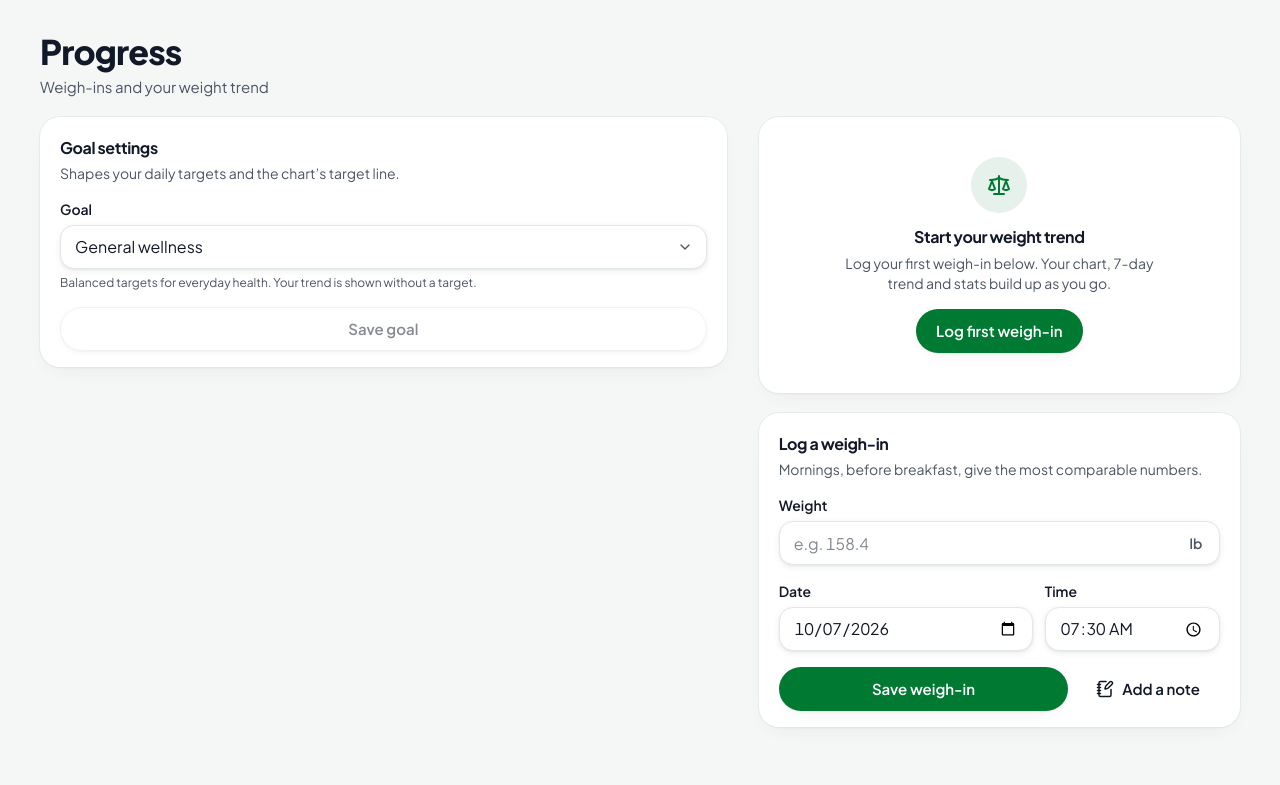
Scenario: Progress: imperial units › accepts pounds and stores kilograms
The width and height of the screenshot is (1280, 785).
Expected: the heading "Log a weigh-in" is shown, [779,433,888,454]
Expected: the text "lb" is shown, [1190,533,1202,553]
Type "30" into the field labelled "Weight".
click(999, 543); type("30")  # box [779,521,1220,565]
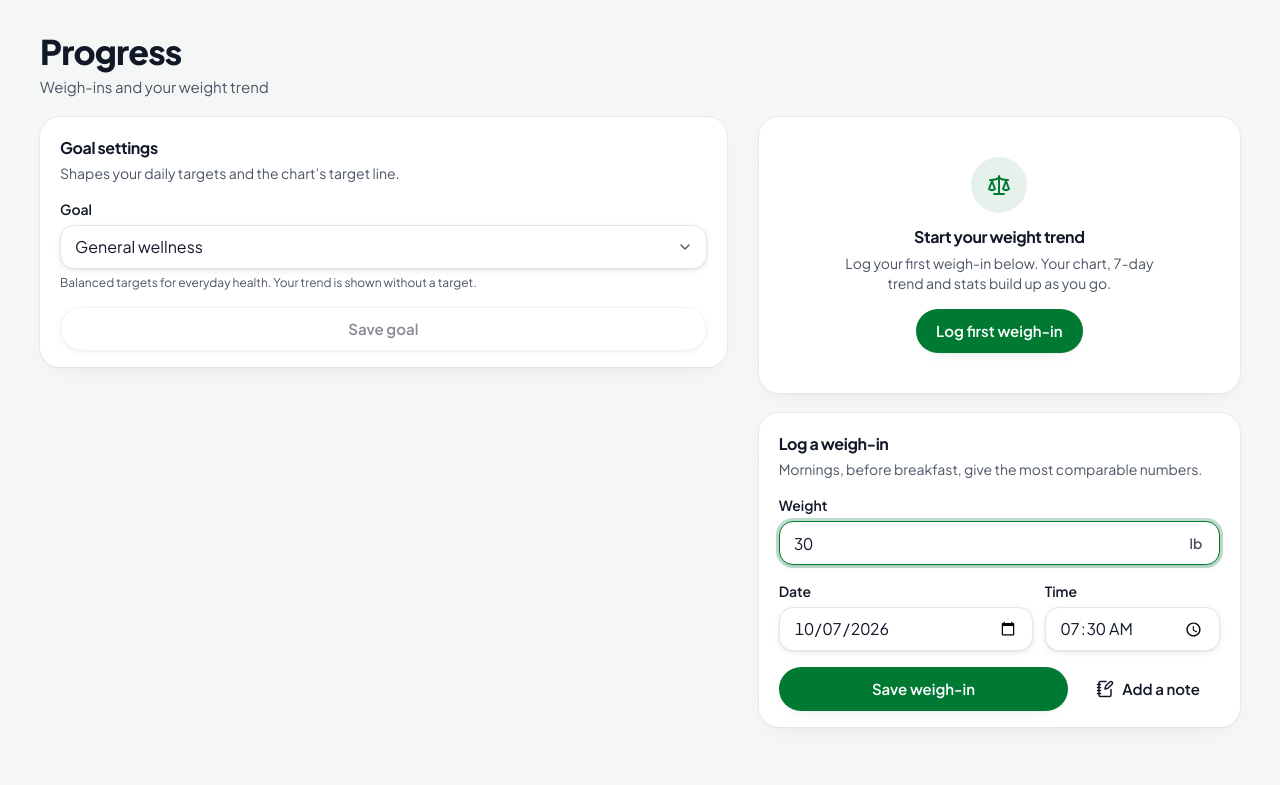
Click the button "Save weigh-in".
click(924, 689)  # box [779,667,1068,711]
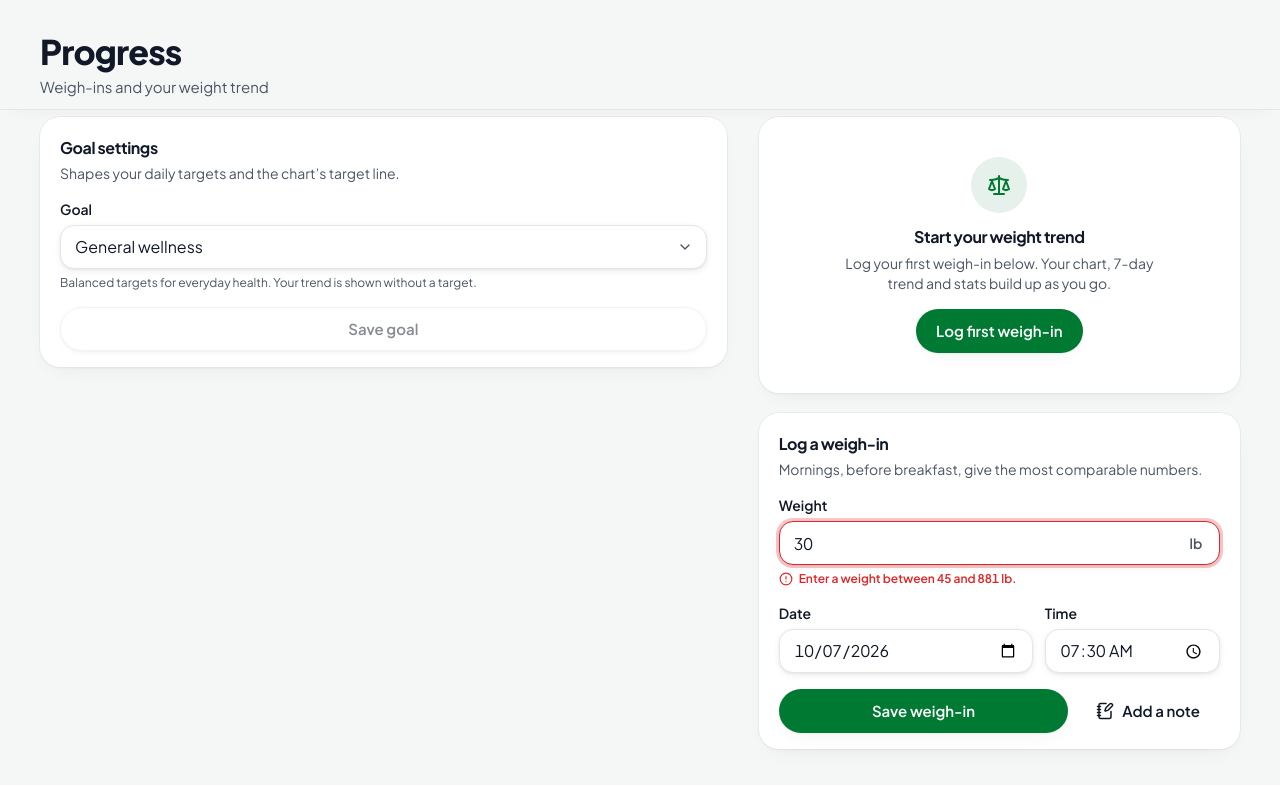
Now the text "Enter a weight between 45 and 881 lb." is shown, box [799,571,1016,587]
Replace the text in the field labelled "Weight" with "157" at (999, 543), box [779,521,1220,565]
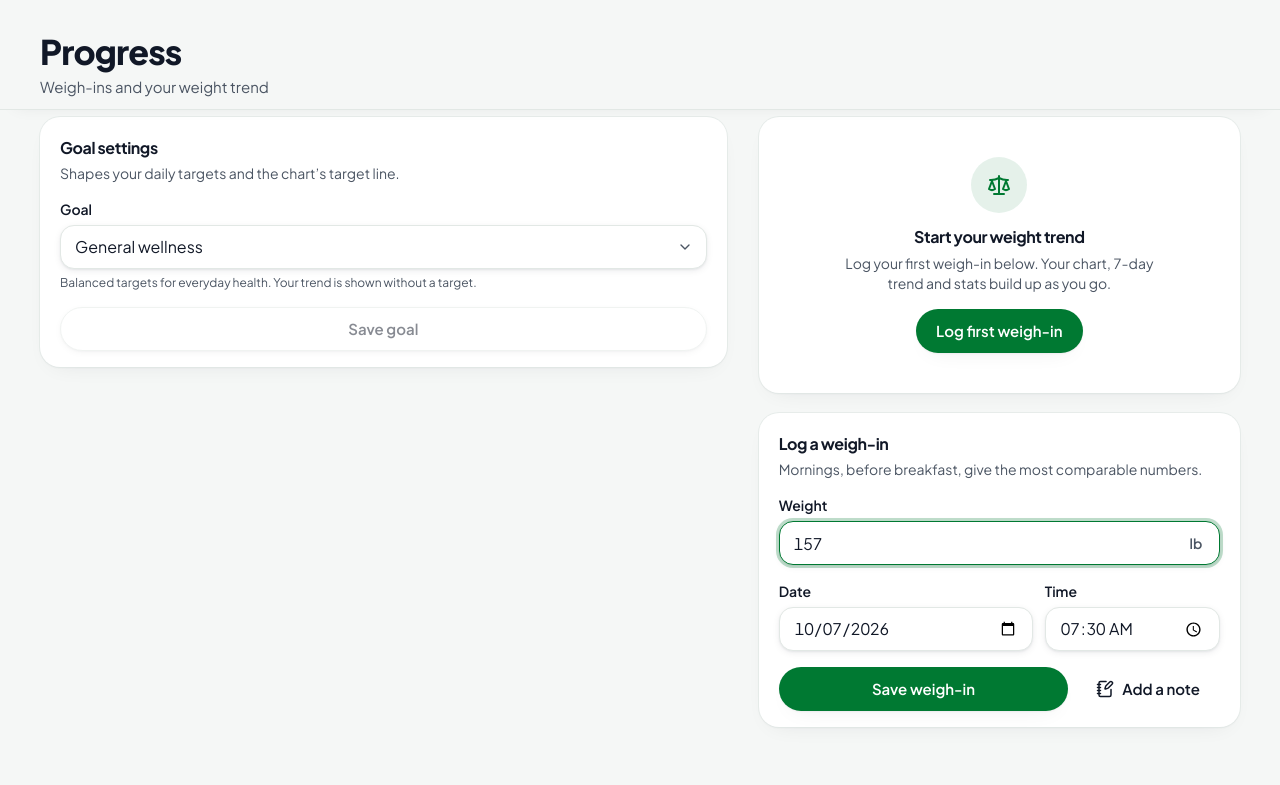
Click the button "Save weigh-in".
click(924, 689)  # box [779,667,1068,711]
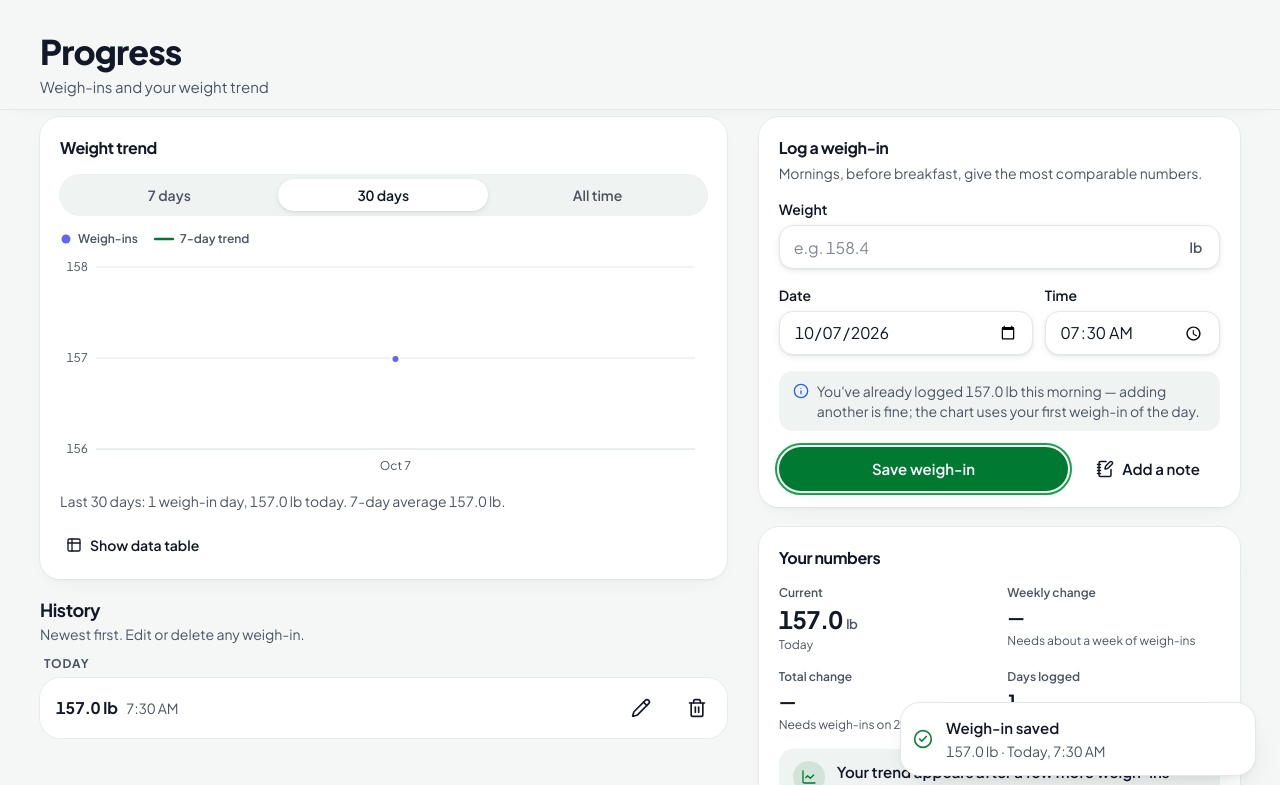
Now the text "Weigh-in saved" is shown, box [946,718,1059,736]
